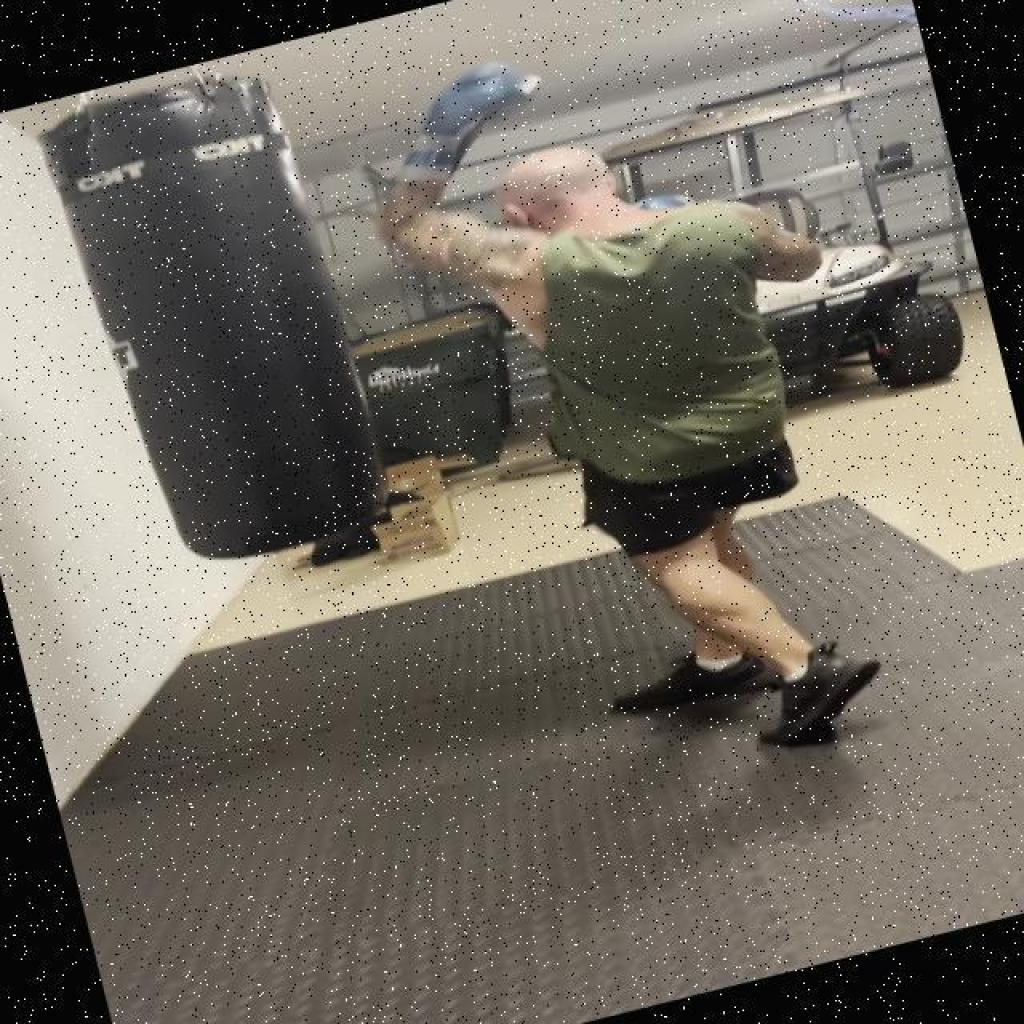bag: (35, 42, 402, 587)
uppercut: (326, 0, 845, 365)
